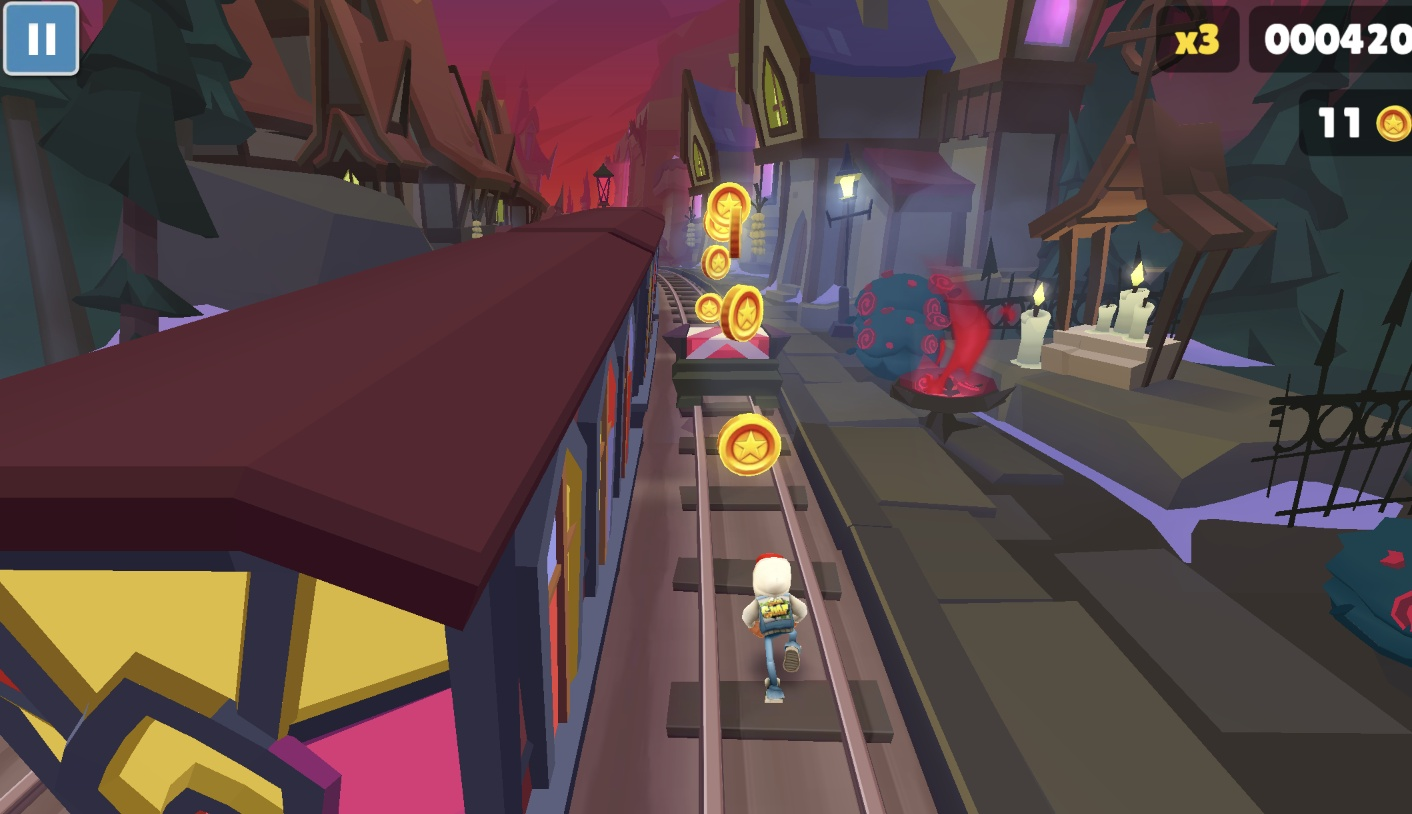ground_barrier: (661, 323, 791, 416)
train: (0, 208, 666, 814)
